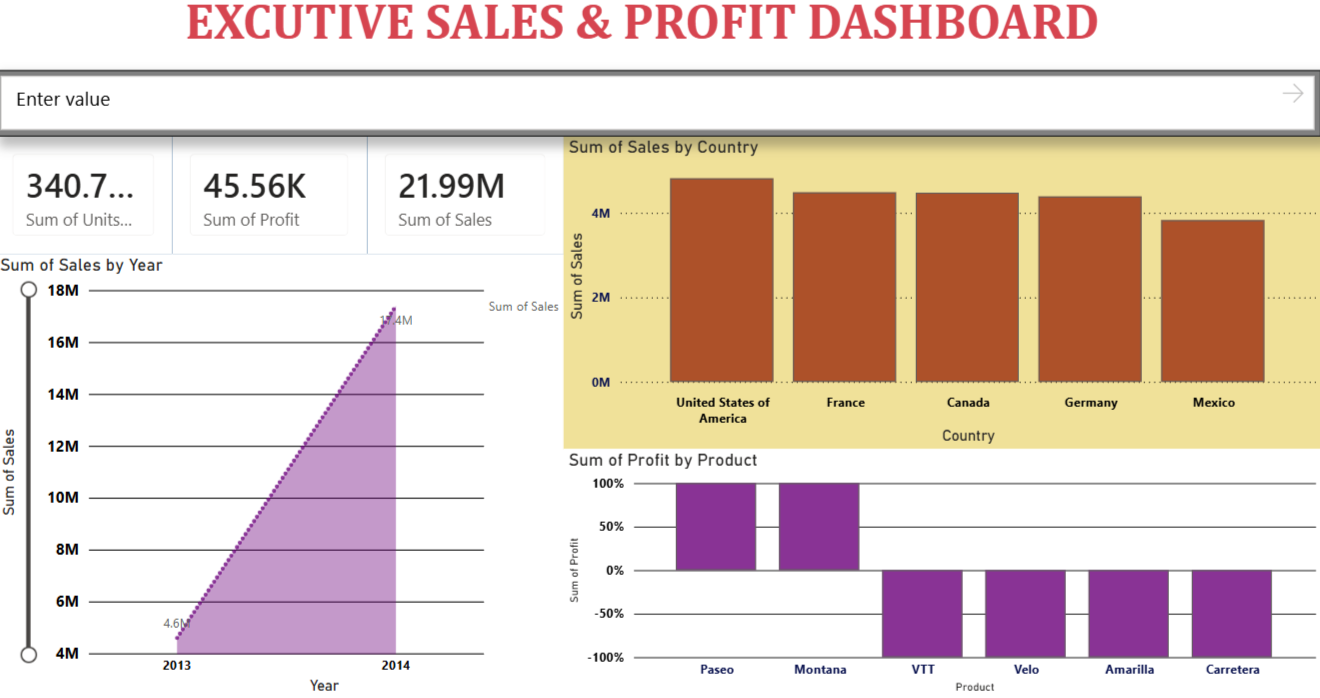

The page's visual inventory and layout, read from the dashboard file:
{"tool":"powerbi","page":{"name":"Page 1","canvas":[1280,720],"ordinal":0},"visuals":[{"type":"shape","box":[0,177,1280.3,177],"z":0},{"type":"textbox","box":[0,26.1,1280.3,87.8],"z":1000},{"type":"cardVisual","fields":{"Data":["Sum(financials.Sales)"]},"box":[359.5,177,189.4,113.9],"z":2000},{"type":"cardVisual","fields":{"Data":["Sum(financials.Profit)"]},"box":[171.5,177,188,113.9],"z":3000},{"type":"cardVisual","fields":{"Data":["Sum(financials.Units Sold)"]},"box":[0,177,171.5,113.9],"z":4000},{"type":"lineChart","fields":{"Category":["financials.Date.Variation.Date Hierarchy.Year","financials.Date.Variation.Date Hierarchy.Quarter","financials.Date.Variation.Date Hierarchy.Month","financials.Date.Variation.Date Hierarchy.Day"],"Y":["Sum(financials.Sales)"]},"box":[0,290.9,548.9,429.5],"z":5000},{"type":"clusteredColumnChart","fields":{"Category":["financials.Country"],"Y":["Sum(financials.Sales)"]},"box":[548.9,177,731.4,301.9],"z":6000},{"type":"hundredPercentStackedColumnChart","fields":{"Category":["financials.Product"],"Y":["Sum(financials.Profit)"]},"box":[549,479,731,241],"z":6001},{"type":"textSlicer","box":[0,113.9,1280.3,63.1],"z":6002}]}

Visuals, with their boxes on the page's 1280x720 design canvas (x1, y1, x2, y2). These are canvas units, not pixel positions in the 1320x698 screenshot, which may show the page scaled, cropped or inside an application window:
shape: (left=0, top=177, right=1280, bottom=354)
textbox: (left=0, top=26, right=1280, bottom=114)
cardVisual - Sum(financials.Sales): (left=360, top=177, right=549, bottom=291)
cardVisual - Sum(financials.Profit): (left=172, top=177, right=360, bottom=291)
cardVisual - Sum(financials.Units Sold): (left=0, top=177, right=172, bottom=291)
lineChart - financials.Date.Variation.Date Hierarchy.Year x financials.Date.Variation.Date Hierarchy.Quarter: (left=0, top=291, right=549, bottom=720)
clusteredColumnChart - financials.Country x Sum(financials.Sales): (left=549, top=177, right=1280, bottom=479)
hundredPercentStackedColumnChart - financials.Product x Sum(financials.Profit): (left=549, top=479, right=1280, bottom=720)
textSlicer: (left=0, top=114, right=1280, bottom=177)
